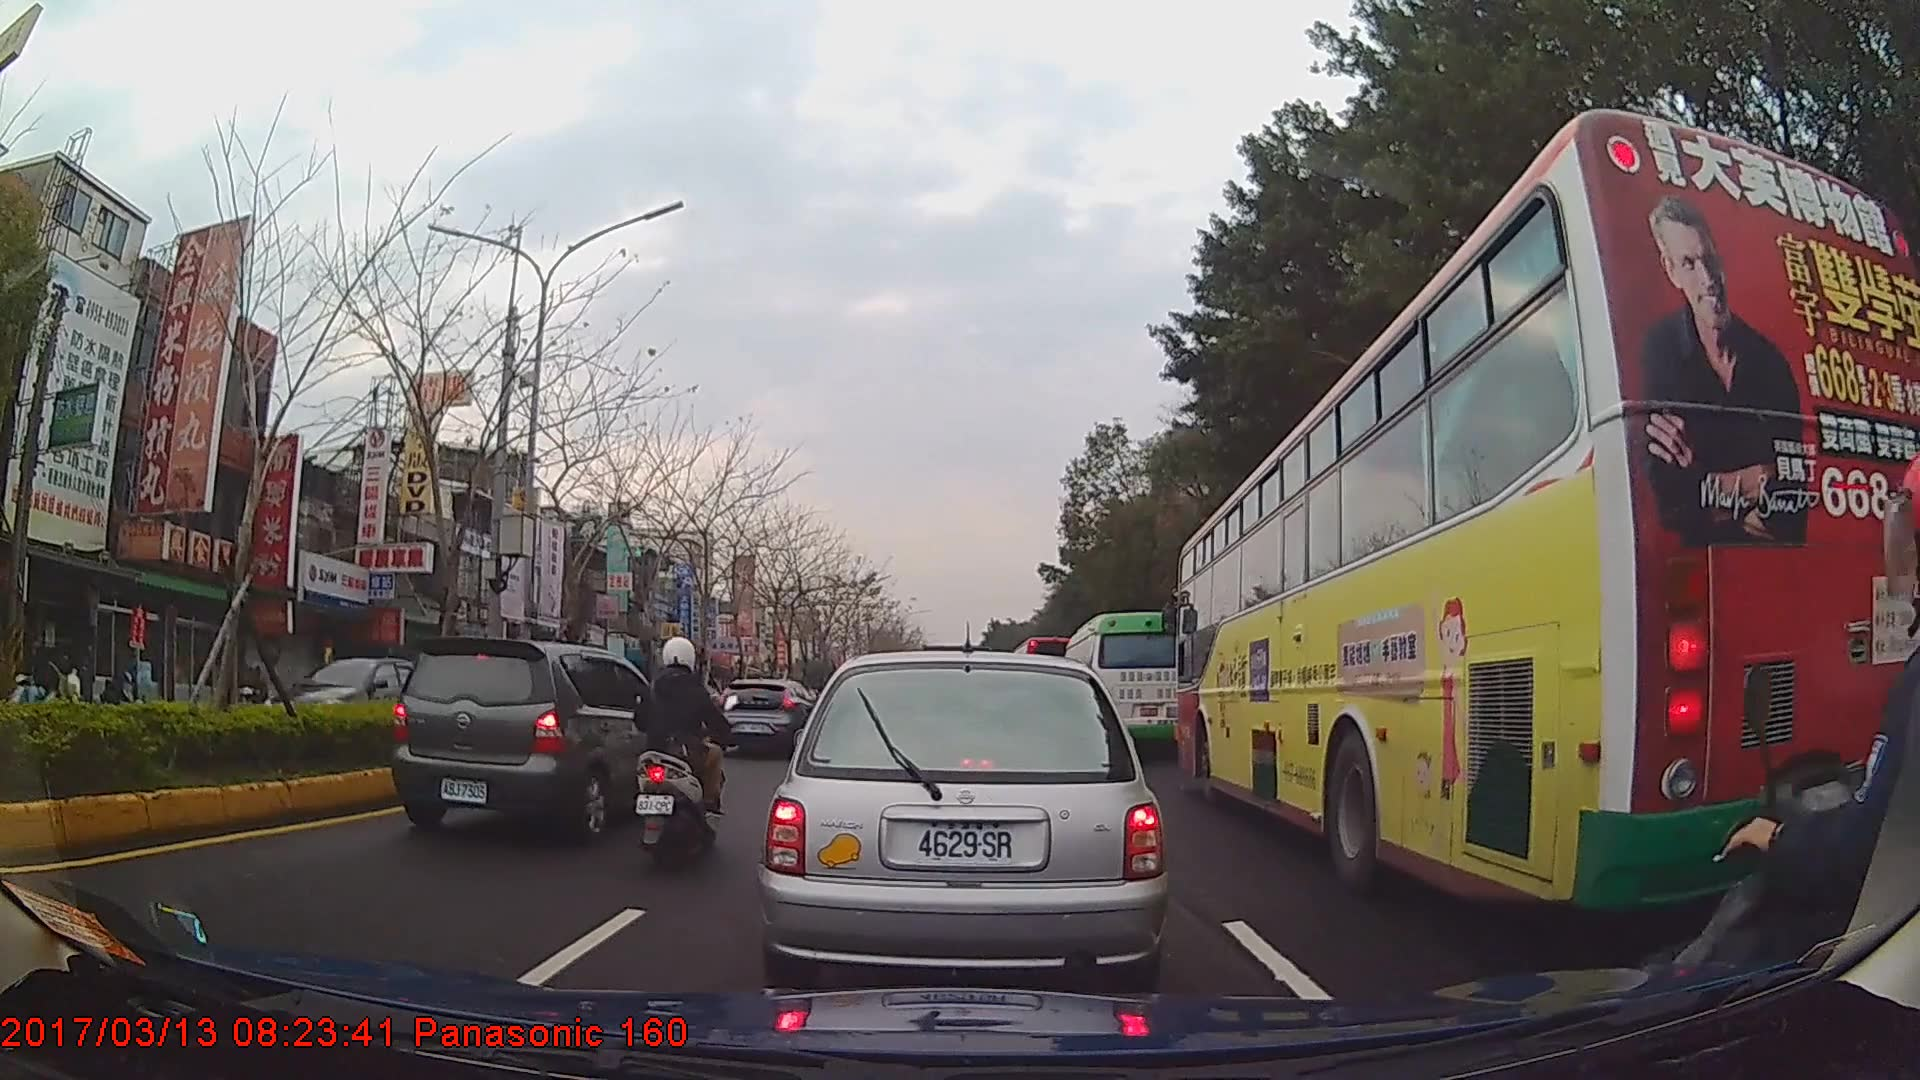rider: (1674, 456, 1920, 1080), (634, 634, 732, 860), (13, 646, 57, 703), (236, 661, 267, 705)
vehicle: (1173, 106, 1920, 914), (761, 650, 1165, 994), (390, 636, 675, 842), (1062, 610, 1188, 760), (261, 653, 455, 749), (709, 676, 821, 759)
